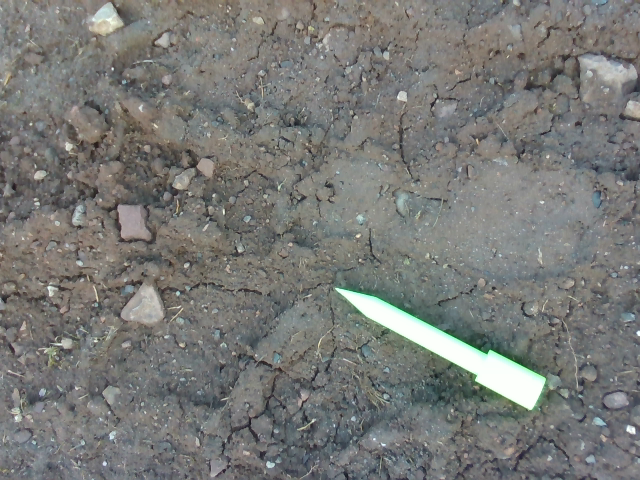Probe: (332, 282, 552, 417)
